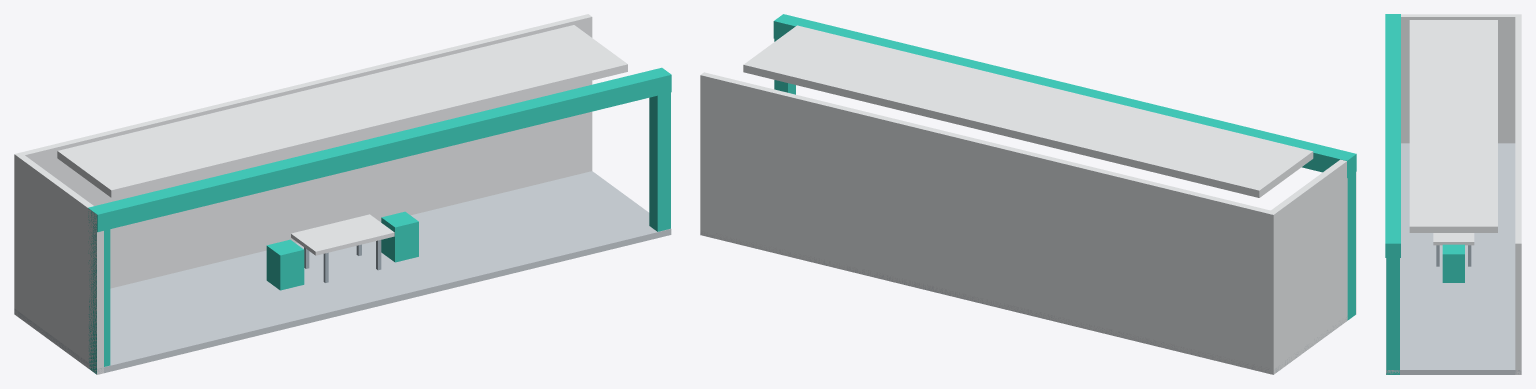
3 views of the same model, side by side, from view 1: azimuth 30°, elevation 25°; view 2: azimuth 150°, elevation 25°; view 3: azimuth 270°, elevation 25° (orthographic). The views are drawn at different scales.
Visible parts, largest first — view 1: Exhibition Booth Concept; view 2: Exhibition Booth Concept; view 3: Exhibition Booth Concept.
Part boxes in pixels (<box>): Exhibition Booth Concept: <box>14,14,671,374</box>; Exhibition Booth Concept: <box>700,14,1356,374</box>; Exhibition Booth Concept: <box>1385,14,1521,374</box>.
Size of the model in its own units: 12 by 3.34 by 3.01.
